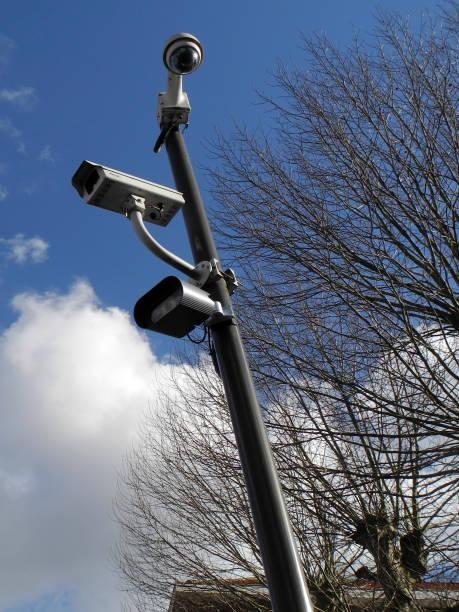camera: (65, 147, 192, 240), (148, 25, 215, 85)
